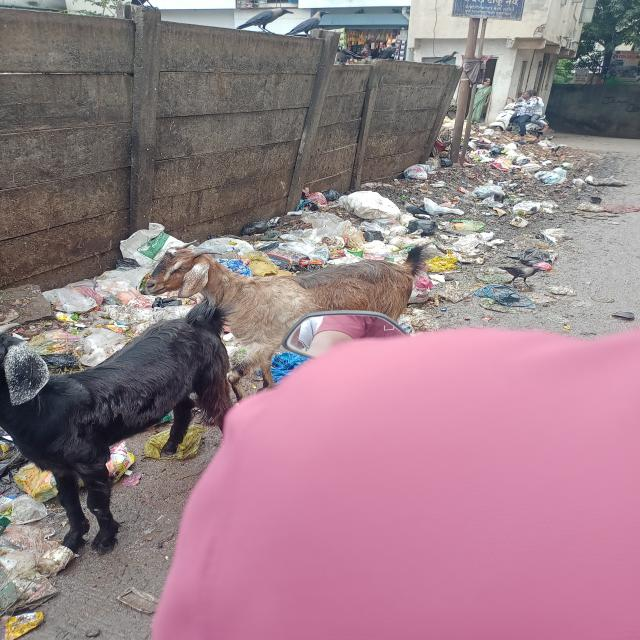garbage: (163, 196, 511, 272), (13, 239, 169, 361), (412, 137, 574, 193)
